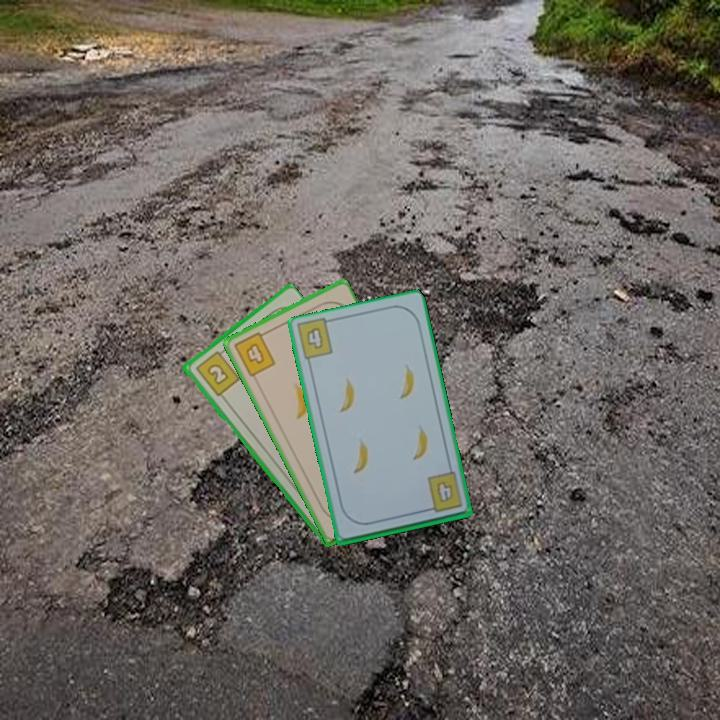2b: (192, 345, 242, 399)
4b: (230, 327, 278, 380), (421, 469, 465, 515), (302, 323, 326, 352)
